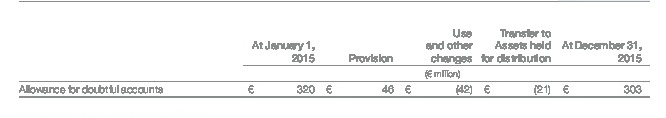table: (0, 0, 666, 118)
